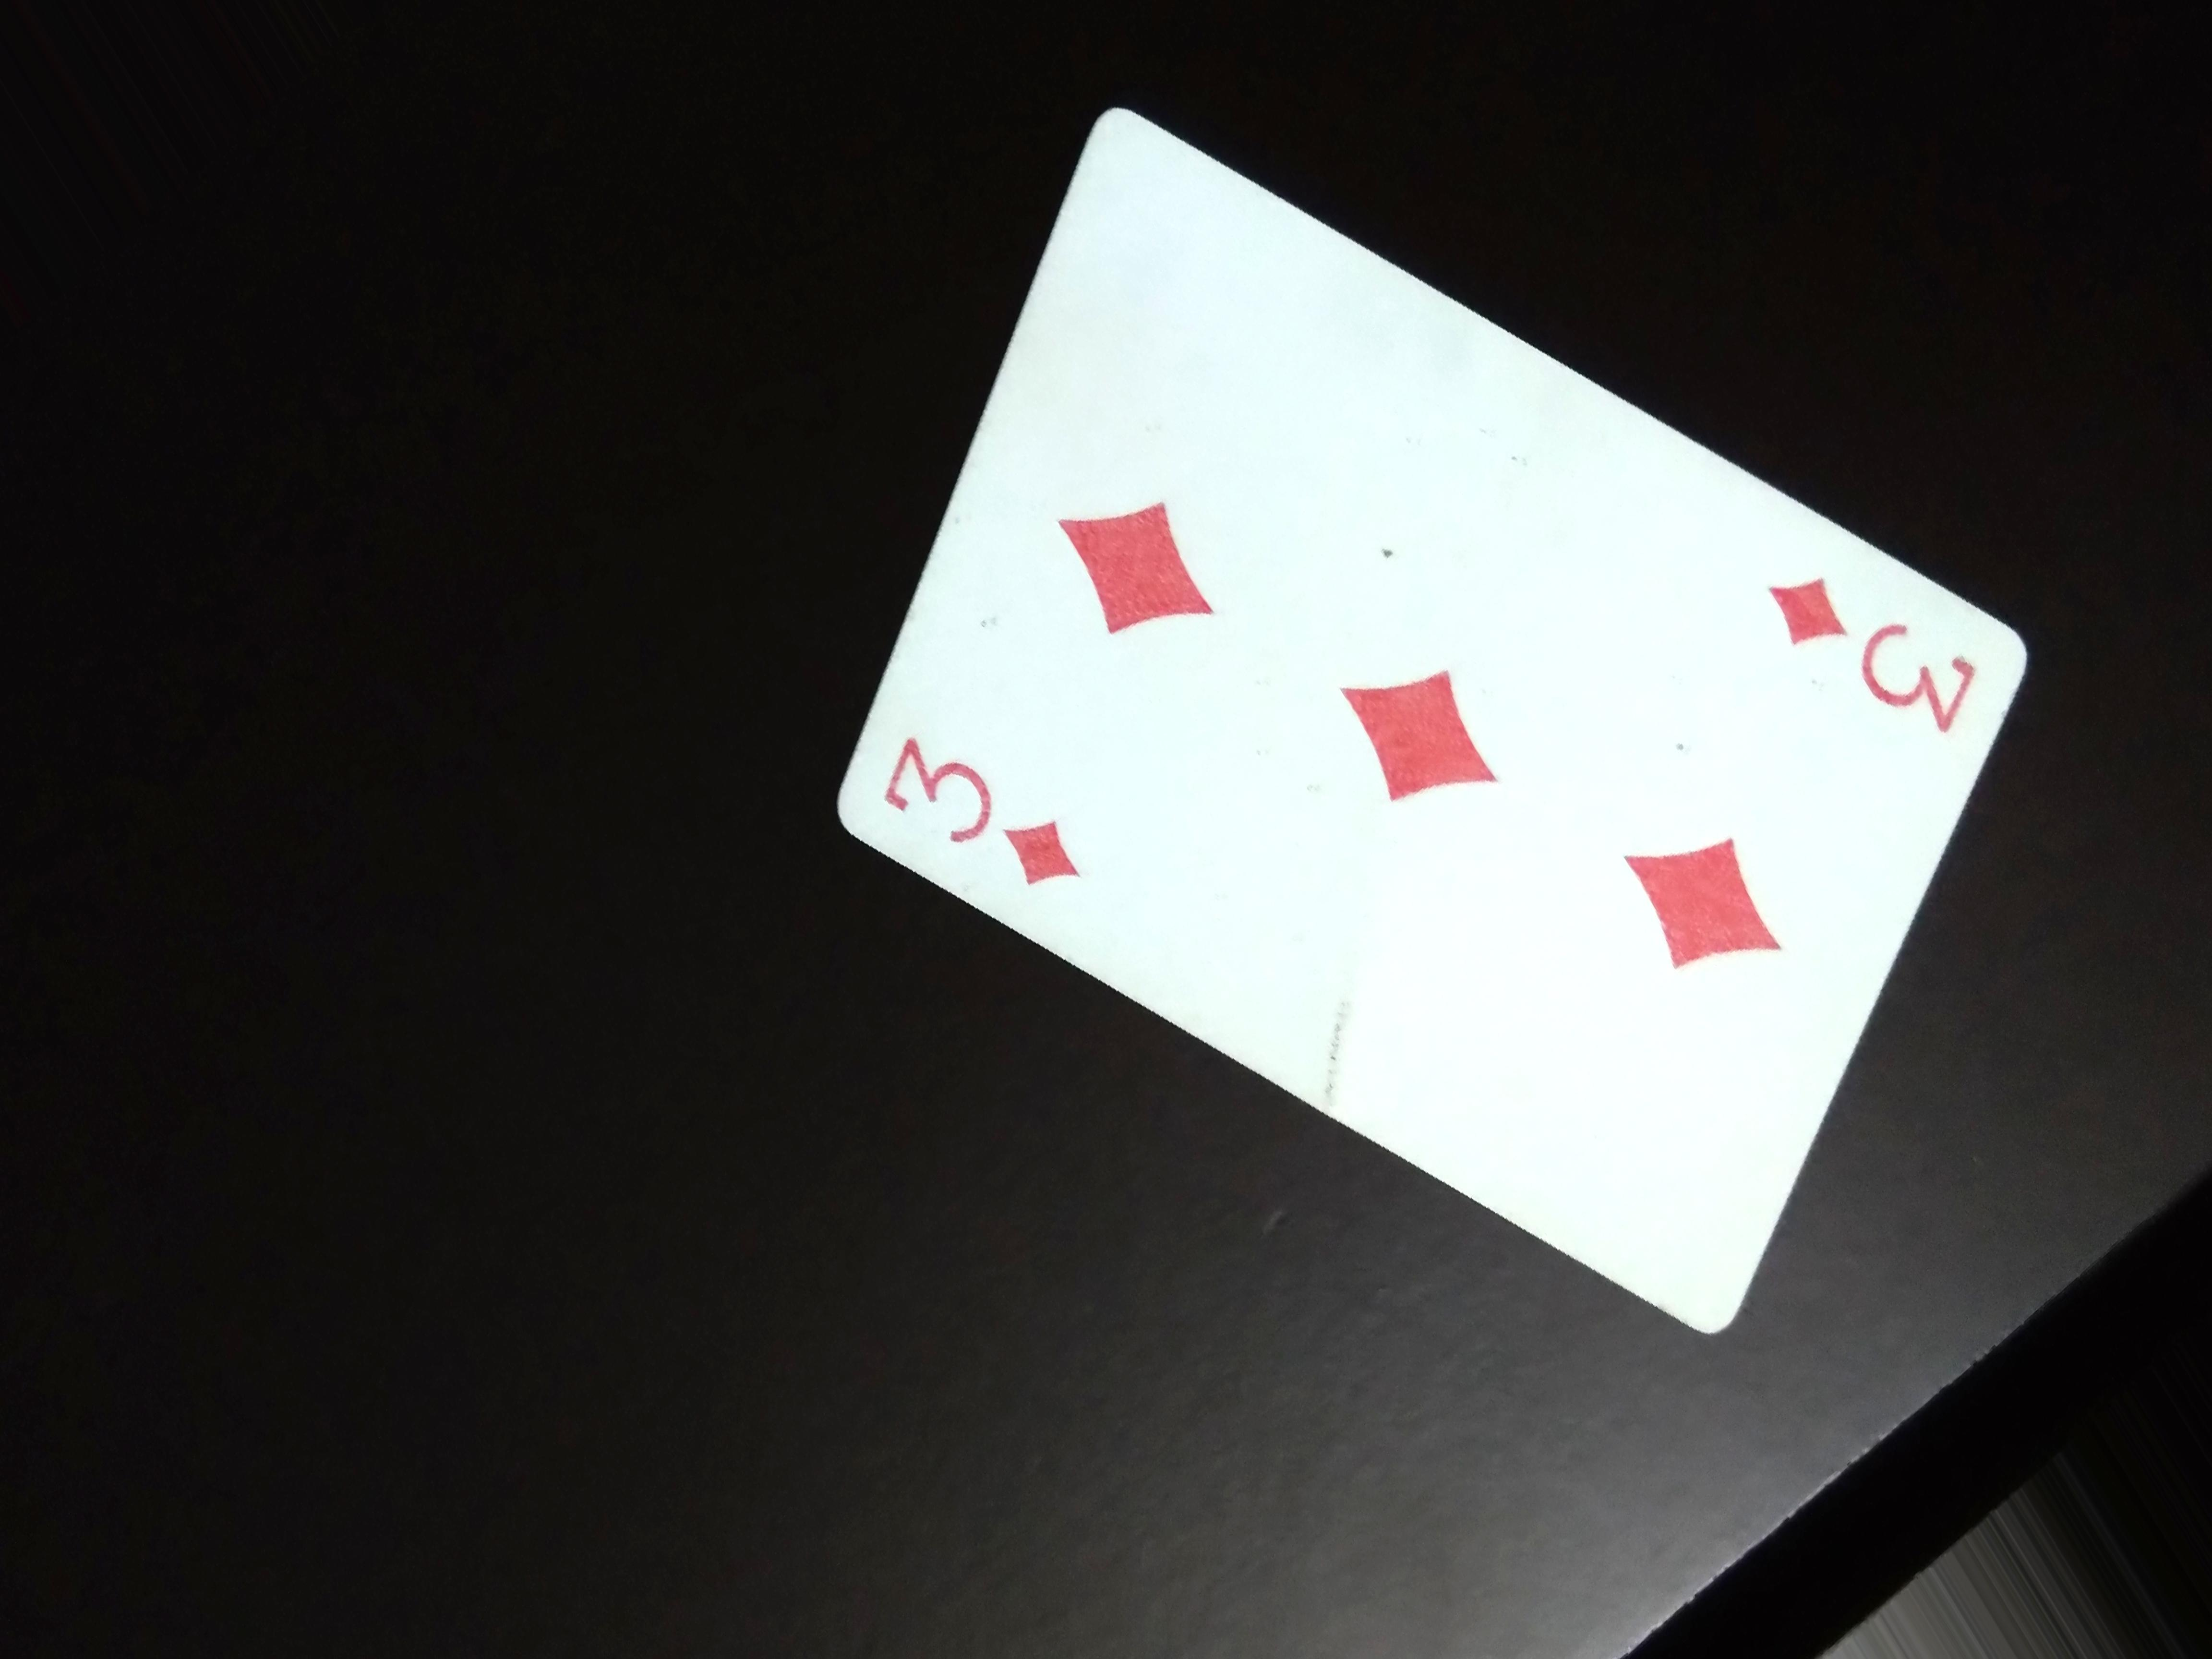3D: (876, 725, 1092, 892)
